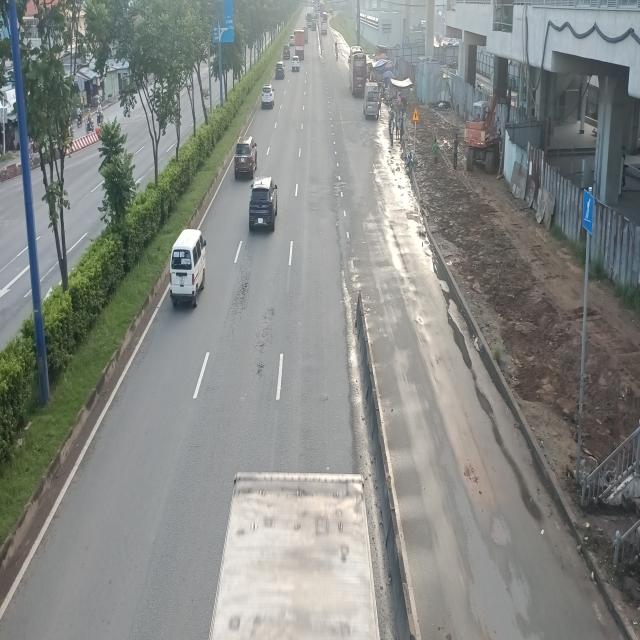car: (249, 178, 281, 233), (235, 136, 259, 180), (262, 86, 274, 110)
coach: (349, 49, 368, 98)
van: (171, 230, 210, 306), (363, 82, 380, 120)
